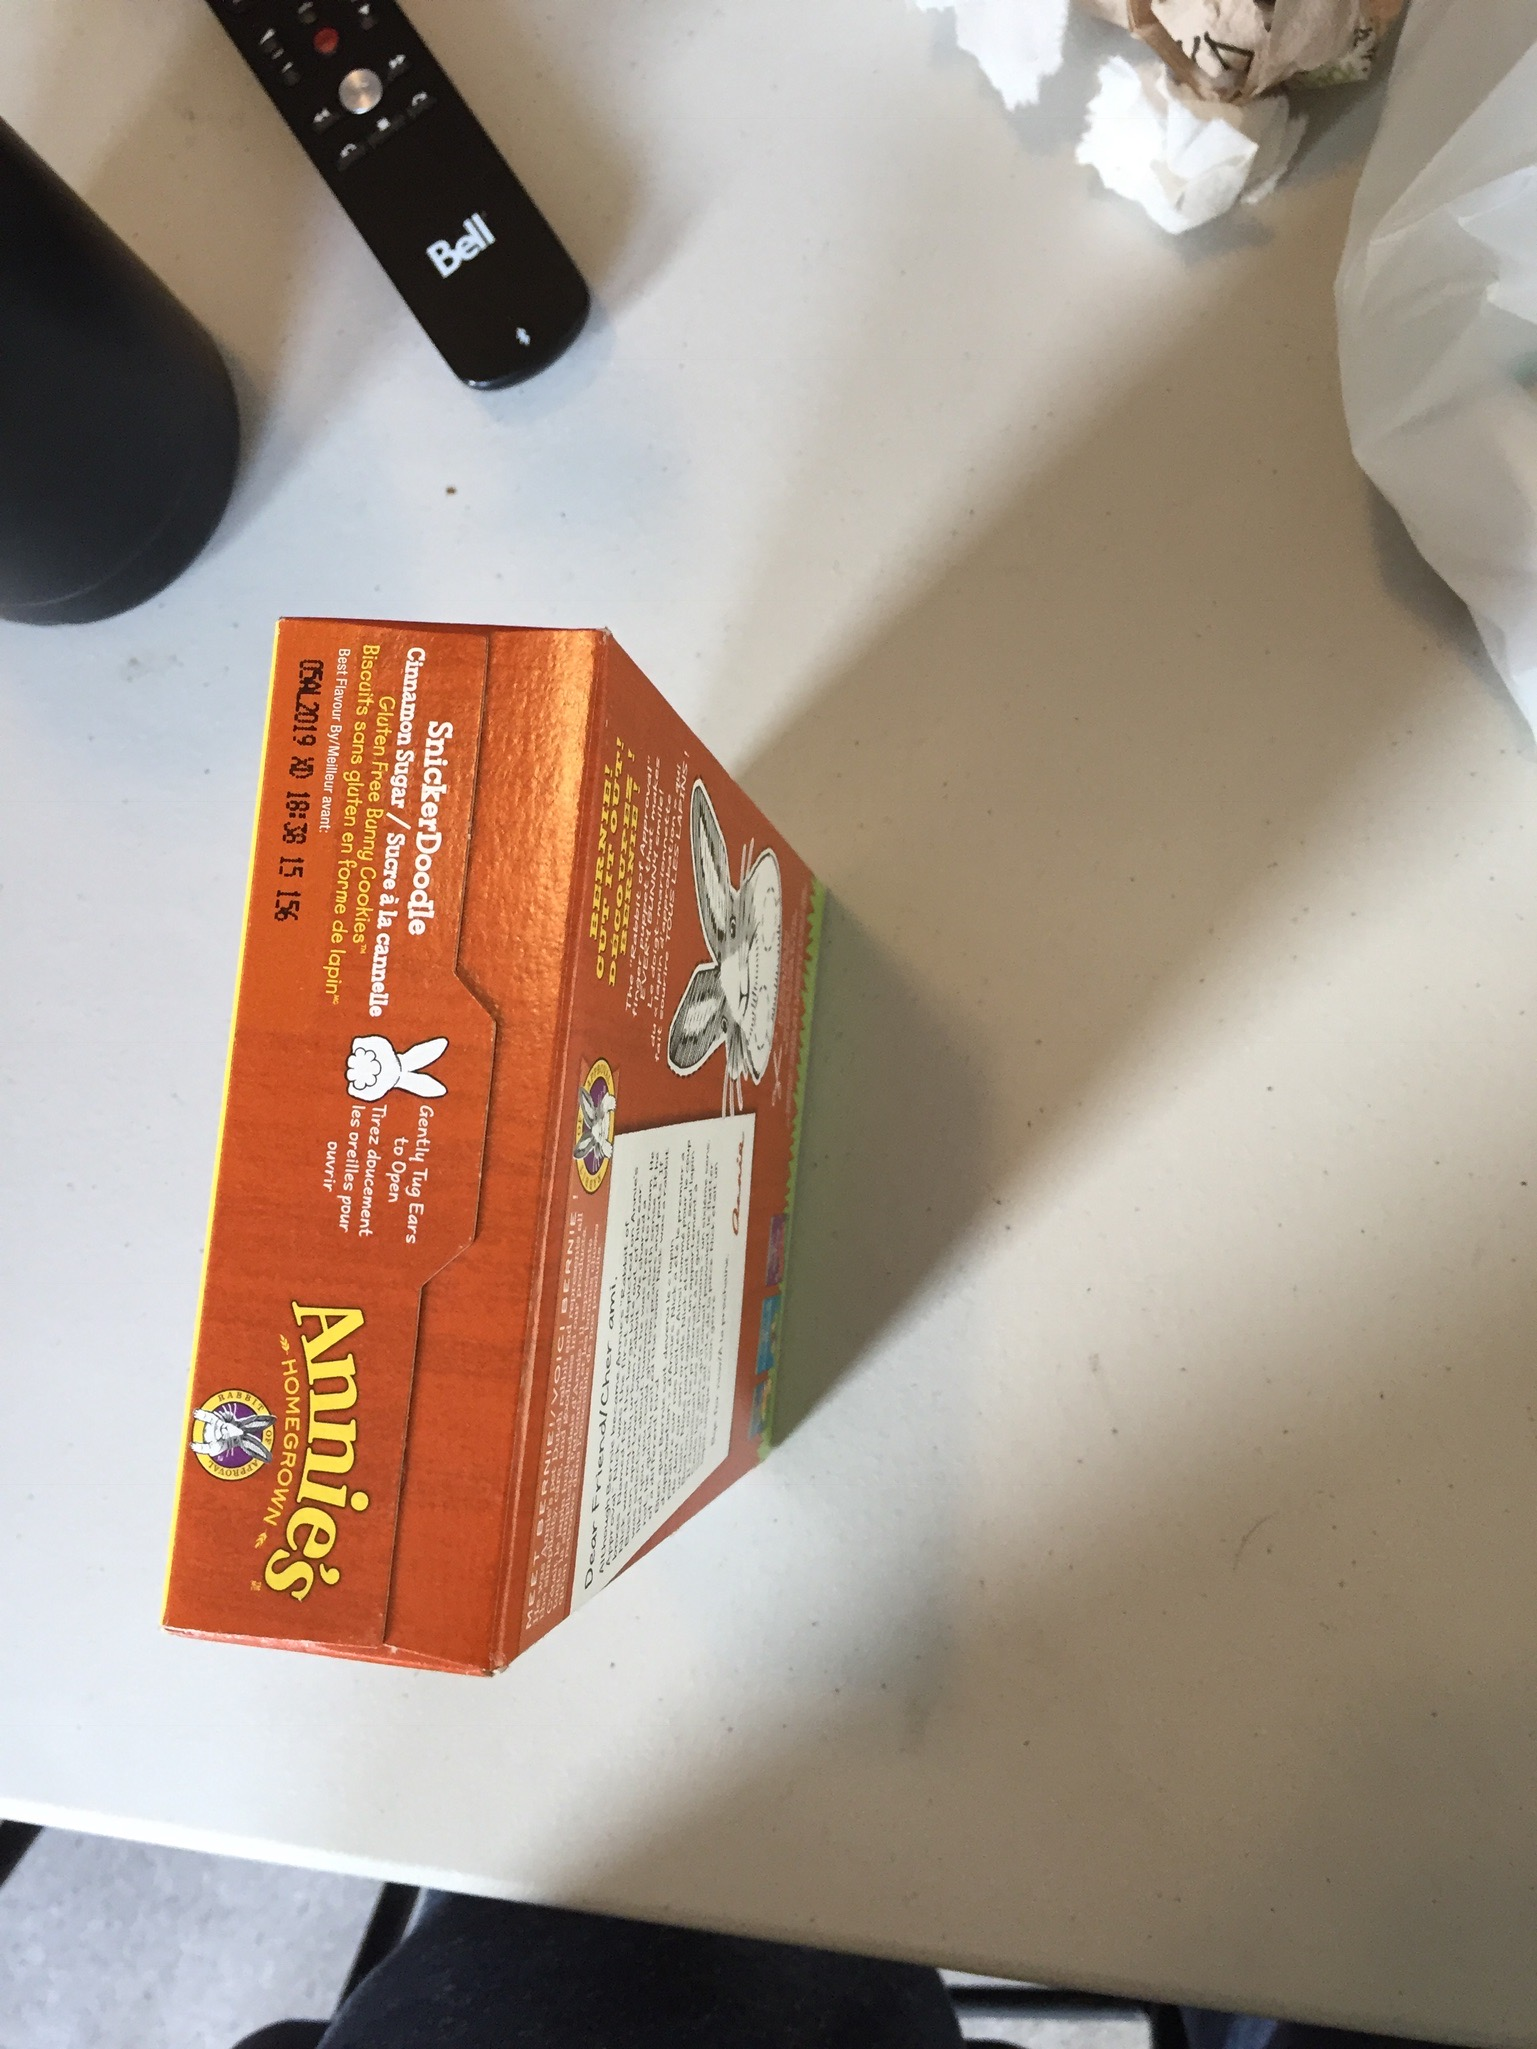annies_snickerdoodles_cinnamon_sugar: (236, 614, 702, 1628)
